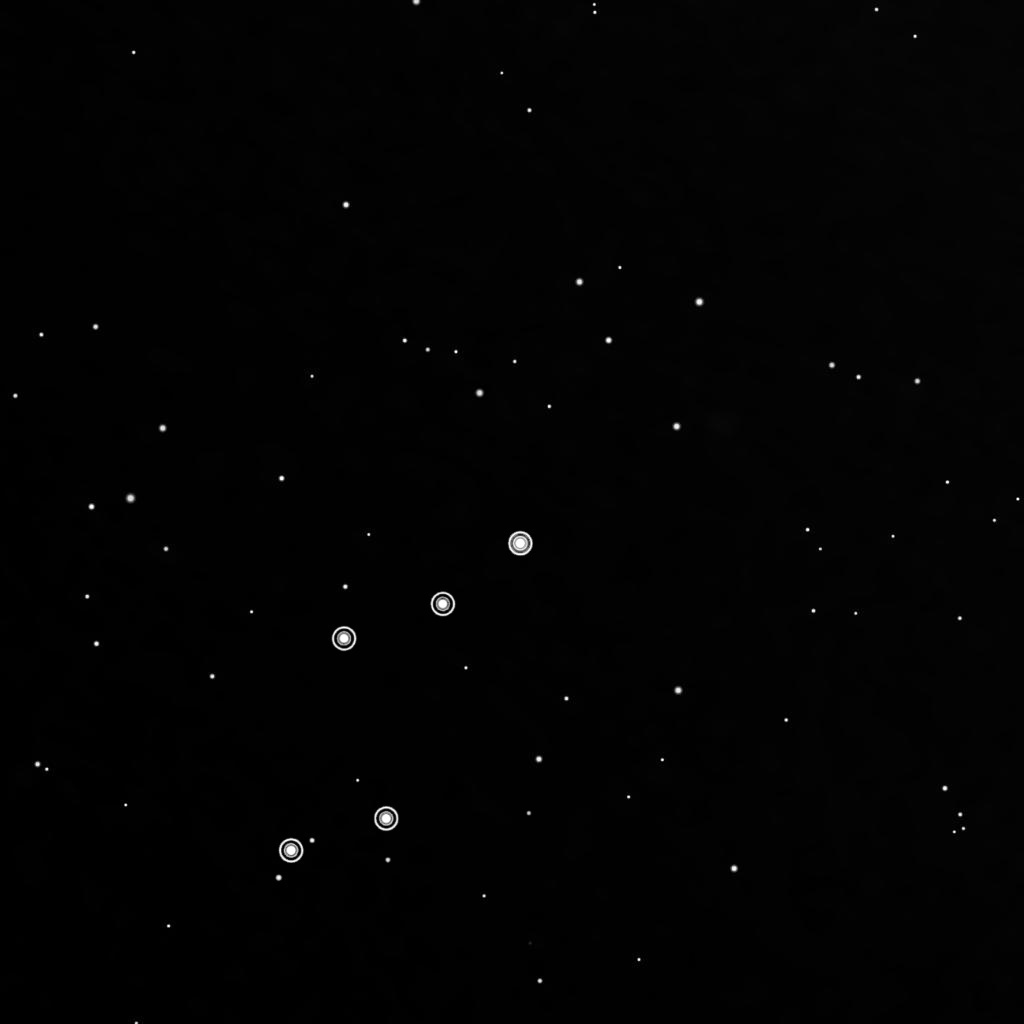lyra: (271, 521, 538, 874)
